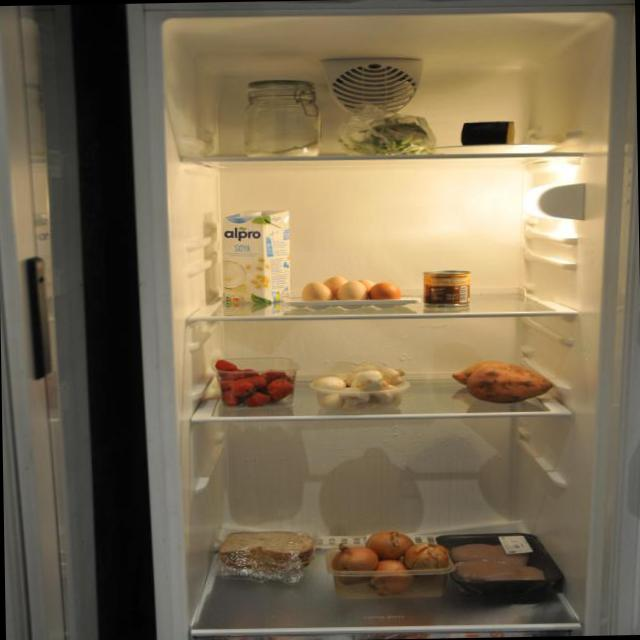Carne pollo: (446, 532, 560, 592)
Cebolla: (328, 529, 450, 595)
Champiñones: (310, 362, 406, 413)
Huevos: (298, 270, 412, 307)
Leche: (216, 206, 296, 314)
Queso: (456, 119, 520, 147)
bread: (215, 529, 319, 588)
corn: (420, 270, 477, 313)
flour: (242, 76, 323, 162)
green_beans: (344, 112, 437, 154)
strawberries: (214, 358, 292, 408)
sweet_potato: (450, 360, 561, 404)
